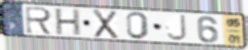0: (125, 11, 150, 41)
6: (196, 15, 220, 44)
H: (55, 8, 82, 37)
J: (165, 14, 189, 42)
R: (24, 5, 55, 36)
X: (92, 8, 120, 40)
